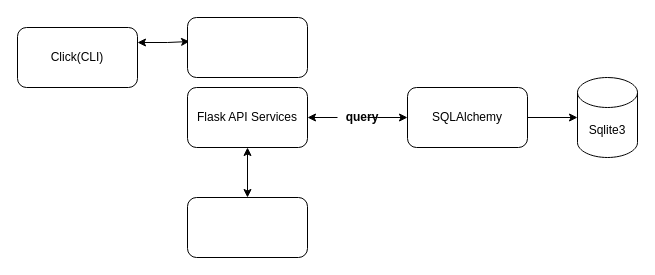
The diagram is 655 pixels wide and 275 high, and some of its shapes have lost their labels. The shapes that lost their labels are listed below. From the top down, each one's centre as x and y in pixels, then its label:
point 247,47: gunicorn
point 247,227: FrontEnd (Flask Blueprint)
